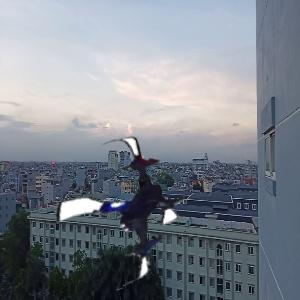drone: (45, 137, 198, 290)
